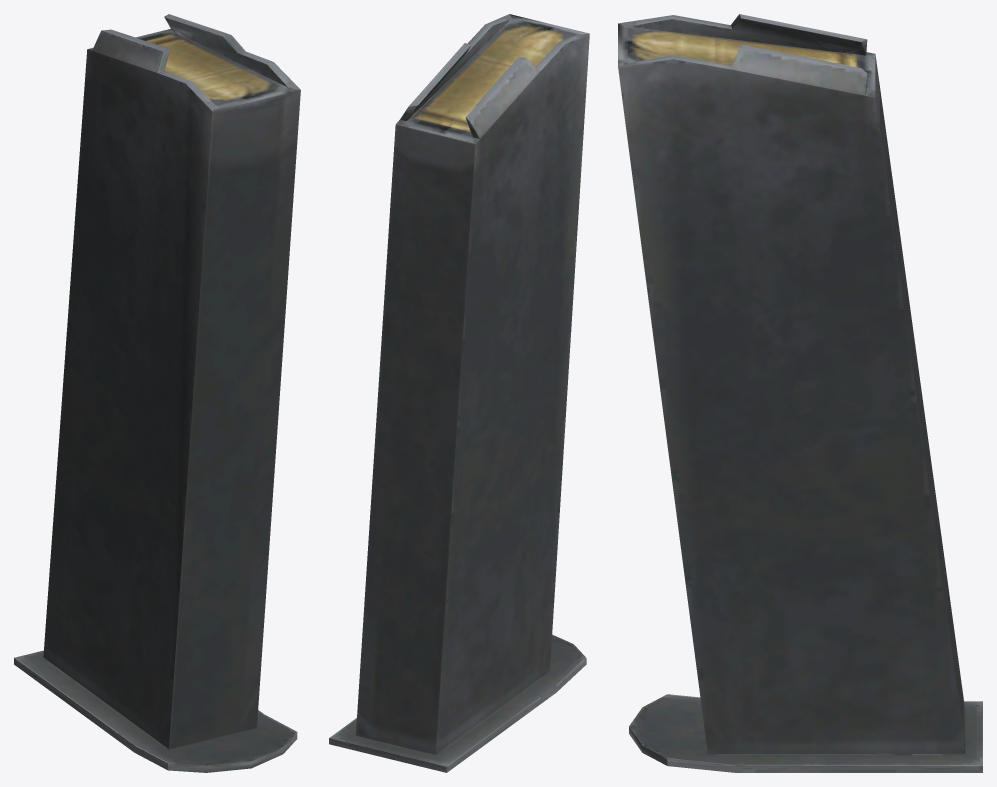
The model's file is Pistol_sq_dj_03_Magazine_Main_(000048).glb.
3 views of the same model, side by side, from view 1: azimuth 30°, elevation 25°; view 2: azimuth 150°, elevation 25°; view 3: azimuth 270°, elevation 25° (orthographic). The views are drawn at different scales.
Parts seen in each view (by area): view 1: sq_dj_03; view 2: sq_dj_03; view 3: sq_dj_03.
Boxes of the visible parts, bbox=[...] form: sq_dj_03: bbox=[14, 14, 300, 772]; sq_dj_03: bbox=[329, 14, 589, 772]; sq_dj_03: bbox=[618, 14, 982, 772].
Bounding box in the file's own units: 0.0339 × 0.1733 × 0.0807.
1 material, 1 textured.
